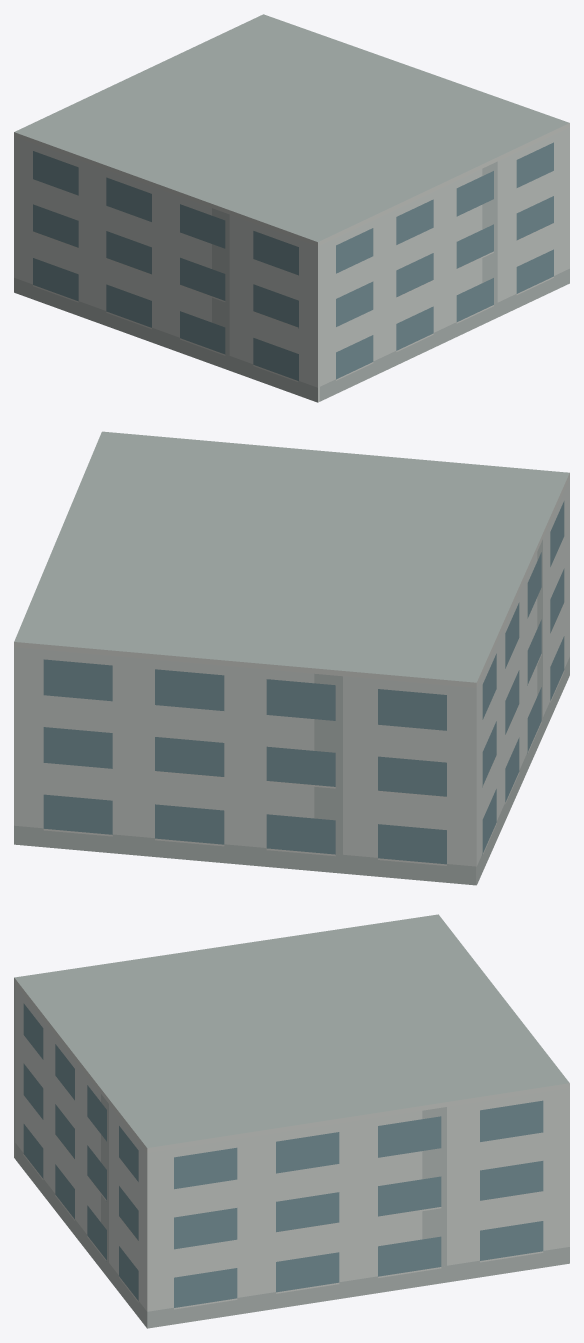
The model's file is survey-upis-32842640.glb.
3 renders of one model, top to bottom at view 1: azimuth 30°, elevation 25°; view 2: azimuth 150°, elevation 25°; view 3: azimuth 270°, elevation 25°, orthographic. The views are drawn at different scales.
Visible parts, largest first — view 1: survey-upis-32842640.tmp; view 2: survey-upis-32842640.tmp; view 3: survey-upis-32842640.tmp.
Boxes of the visible parts, x1=… form: survey-upis-32842640.tmp: x1=14, y1=14, x2=569, y2=402; survey-upis-32842640.tmp: x1=14, y1=431, x2=569, y2=885; survey-upis-32842640.tmp: x1=14, y1=914, x2=569, y2=1328.
Bounding box in the file's own units: 25.44 × 9.15 × 25.56.
